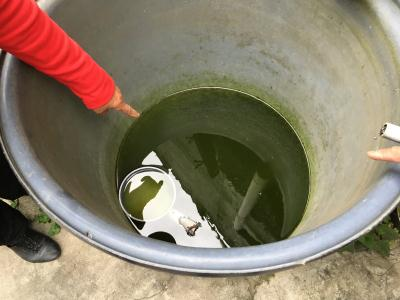bucket: (3, 1, 400, 278)
